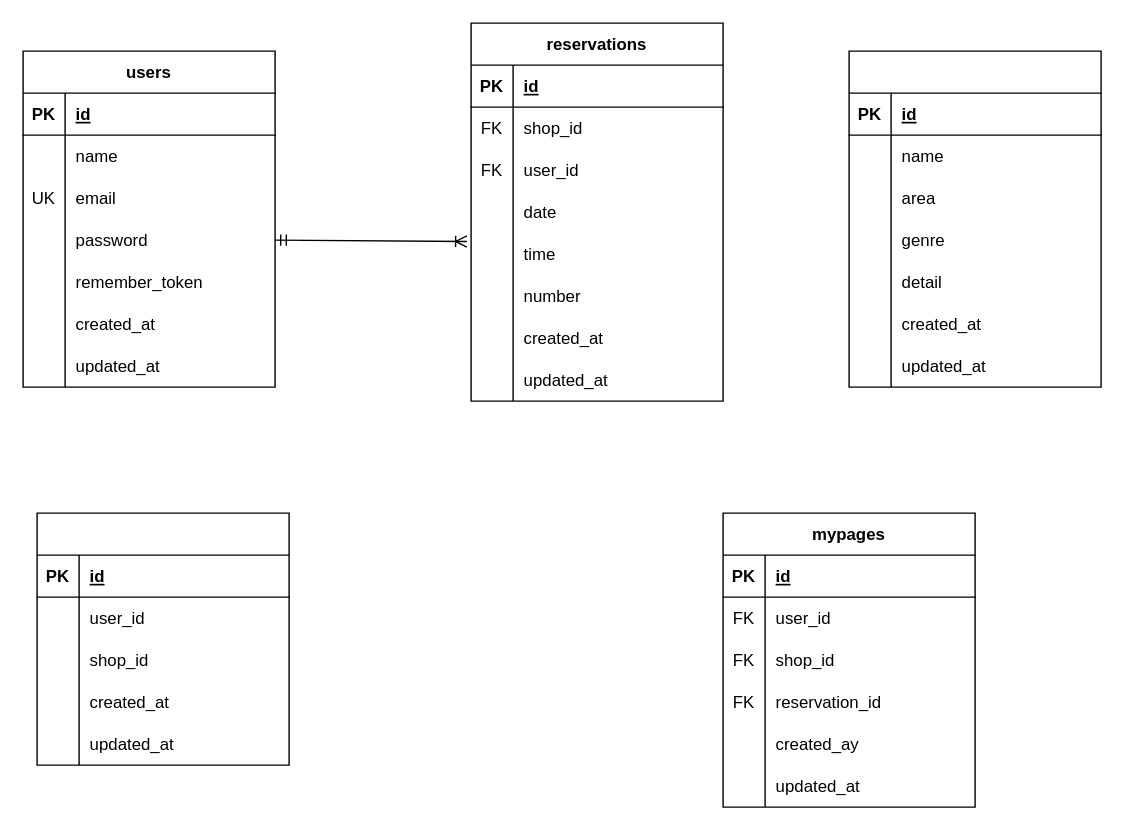
The diagram is 1124 pixels wide and 830 high, and some of its shapes have lost their labels. Each missing label, with the box of its shape:
favourites: (36, 512, 289, 765)
shops: (848, 50, 1101, 387)
